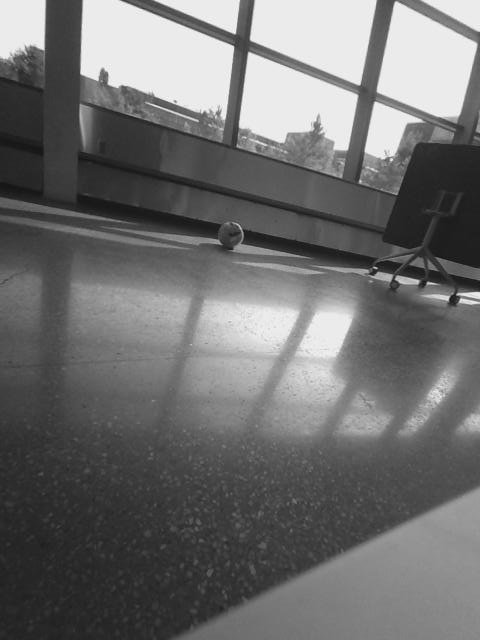ball: (215, 220, 245, 249)
